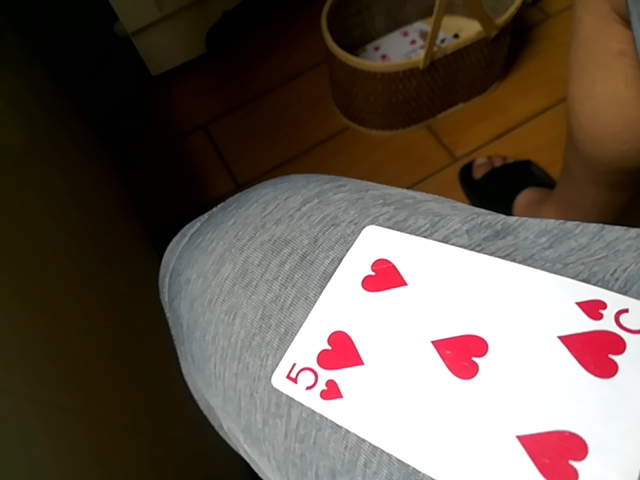hx 5: (270, 219, 640, 480)
